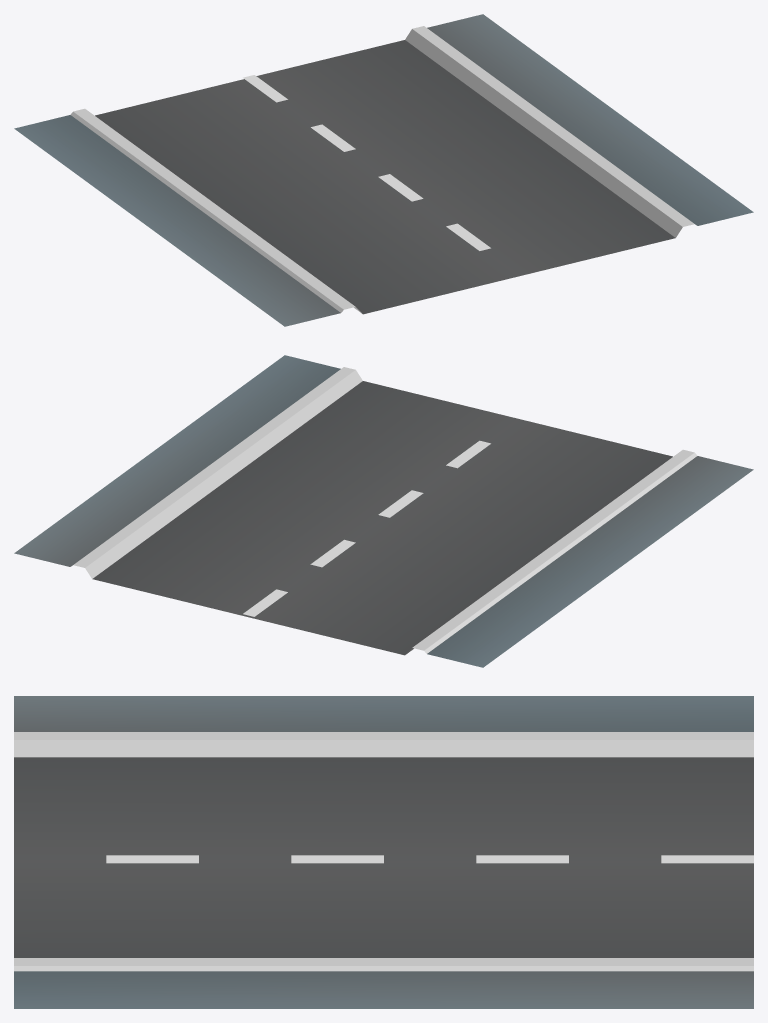
File: SRoad02.fbx
3 renders of one model, top to bottom at view 1: azimuth 30°, elevation 25°; view 2: azimuth 150°, elevation 25°; view 3: azimuth 270°, elevation 25°, orthographic. The views are drawn at different scales.
Parts seen in each view (by area): view 1: SRoad02; view 2: SRoad02; view 3: SRoad02.
Part boxes in pixels (x1,y1,x2,y2): SRoad02: (14,14,753,326); SRoad02: (14,355,753,667); SRoad02: (14,696,753,1008).
Size of the model in its own units: 2 by 0.0379 by 2.
